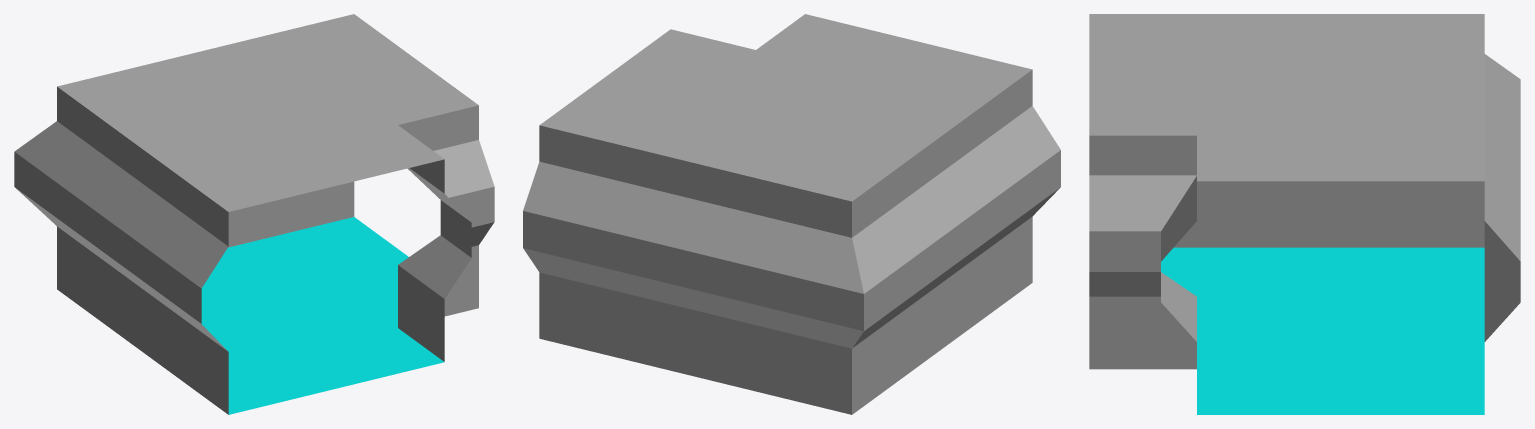
The model's file is sm_hallway_corner.fbx.
3 renders of one model, left to right at view 1: azimuth 30°, elevation 25°; view 2: azimuth 150°, elevation 25°; view 3: azimuth 270°, elevation 25°, orthographic. The views are drawn at different scales.
Visible parts, largest first — view 1: sm_hallway_corner; view 2: sm_hallway_corner; view 3: sm_hallway_corner.
Boxes of the visible parts, x1=… form: sm_hallway_corner: x1=14, y1=14, x2=494, y2=414; sm_hallway_corner: x1=523, y1=14, x2=1060, y2=414; sm_hallway_corner: x1=1089, y1=14, x2=1520, y2=414.
Size of the model in its own units: 12 by 7.17 by 12.
